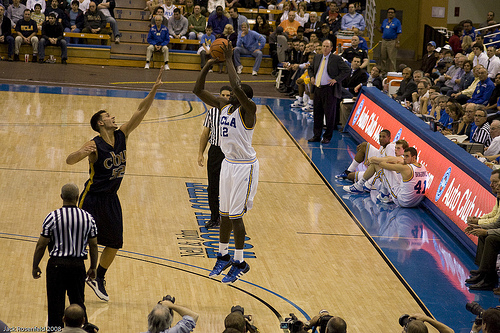Jumpshot: (192, 38, 242, 98)
